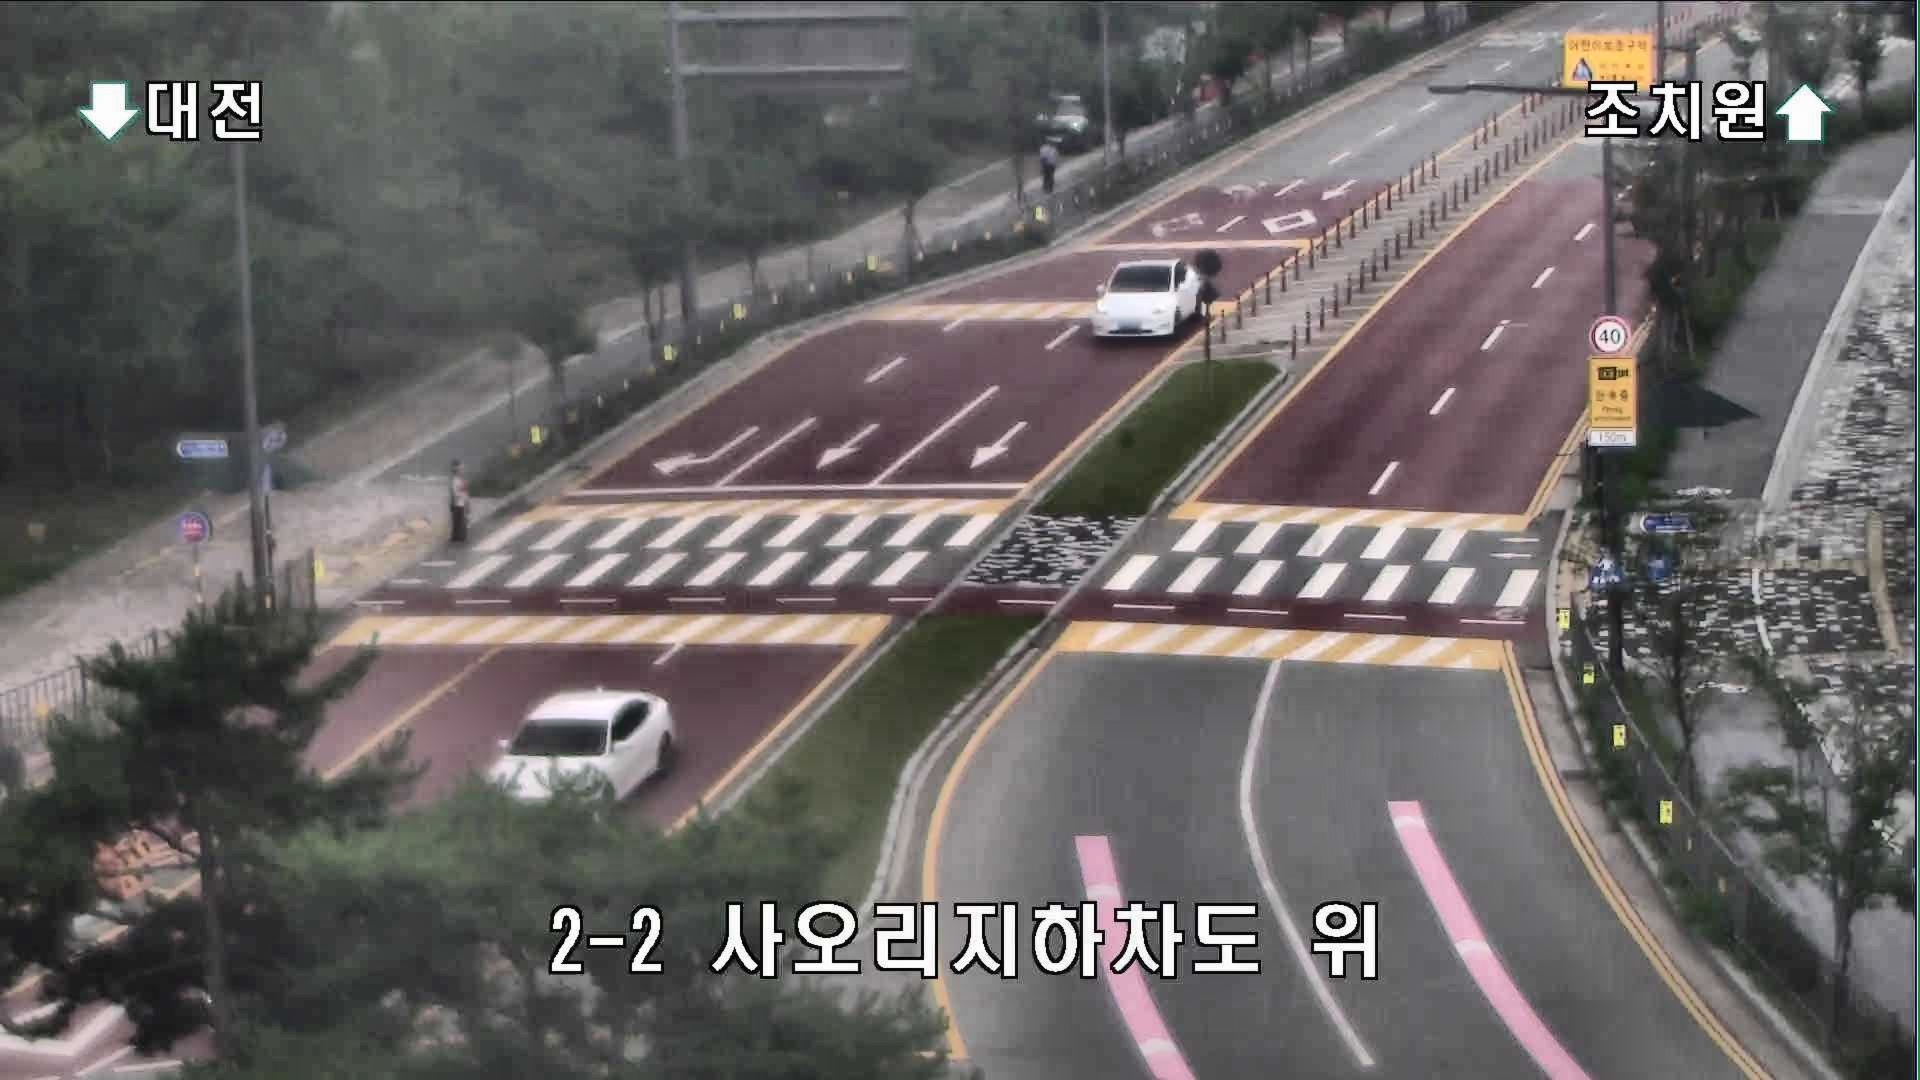crosswalk: (444, 458, 477, 549)
sidewalk: (1036, 135, 1062, 200)
